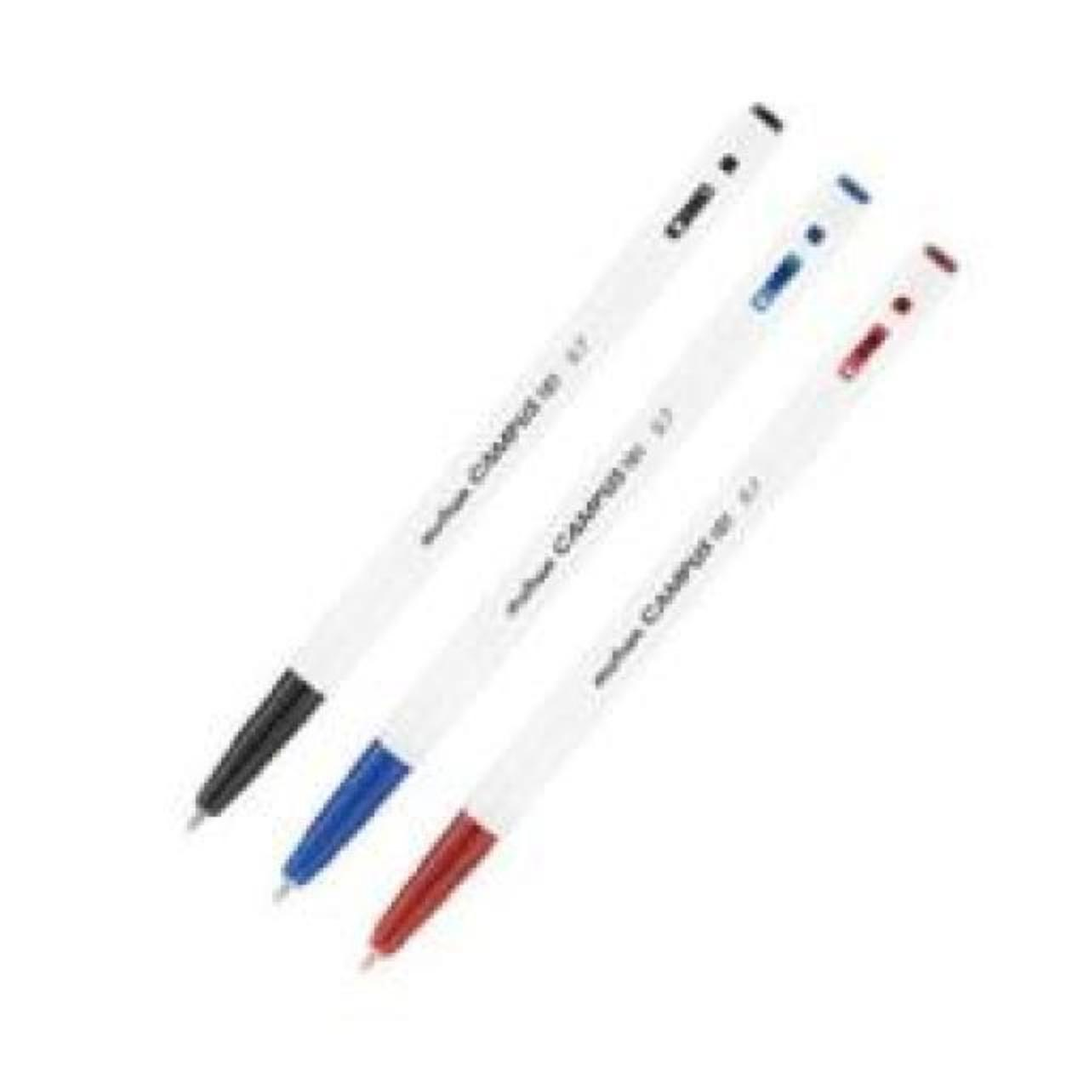pen: (179, 102, 791, 851)
